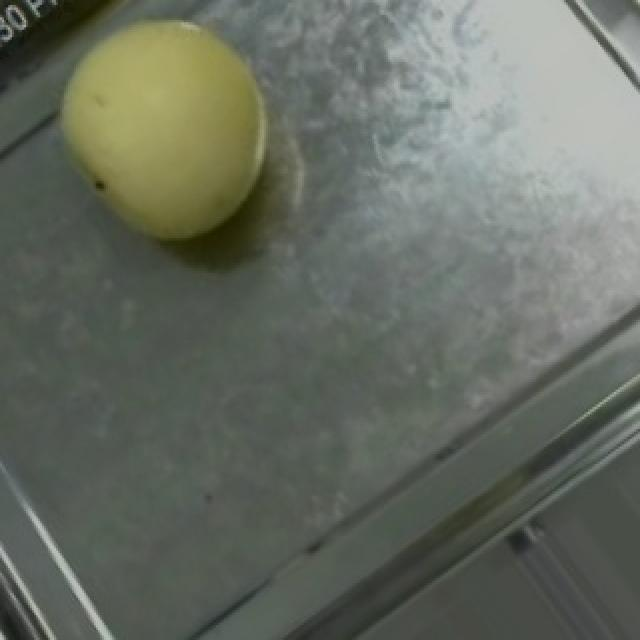Fruit: (16, 0, 314, 285)
